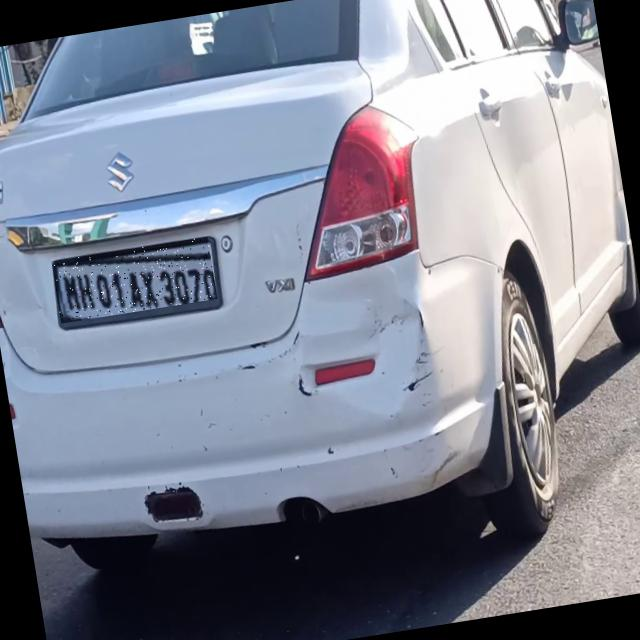Plate: (53, 238, 219, 325)
